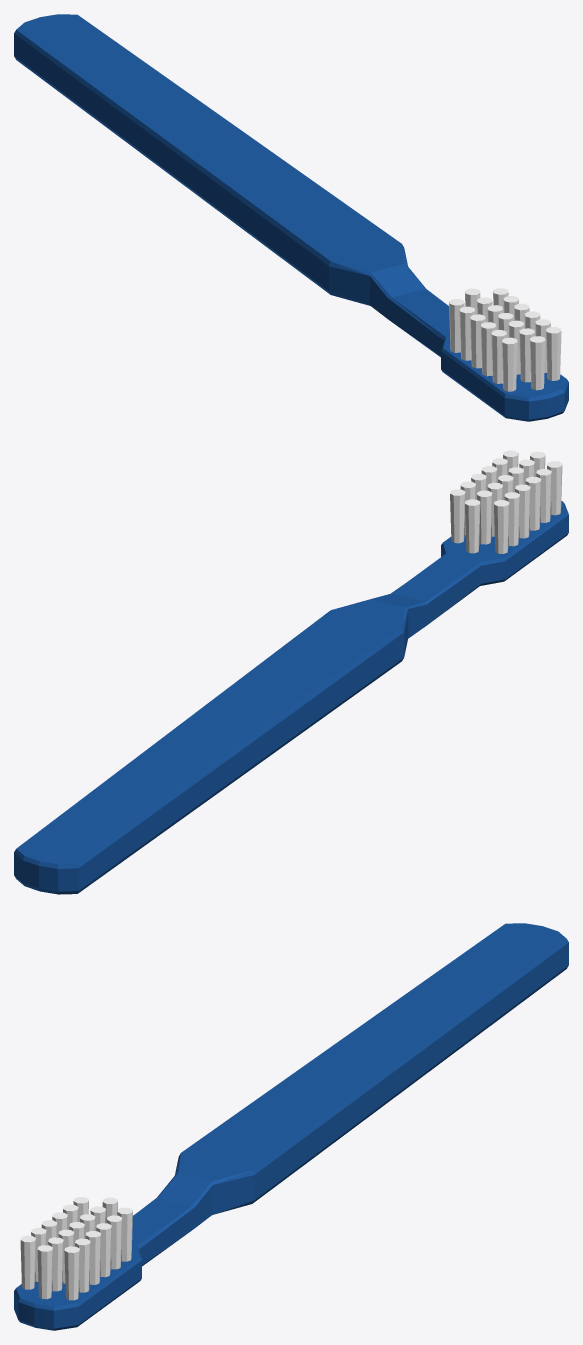
Rendered from Toothbrush.glb.
3 renders of one model, top to bottom at view 1: azimuth 30°, elevation 25°; view 2: azimuth 150°, elevation 25°; view 3: azimuth 330°, elevation 25°, orthographic.
Parts seen in each view (by area): view 1: Node; view 2: Node; view 3: Node.
Boxes of the visible parts, x1,y1,x2,y2 form: Node: (14,14,568,421); Node: (14,450,568,894); Node: (14,923,568,1330).
Size of the model in its own units: 0.693 by 0.635 by 8.12.
